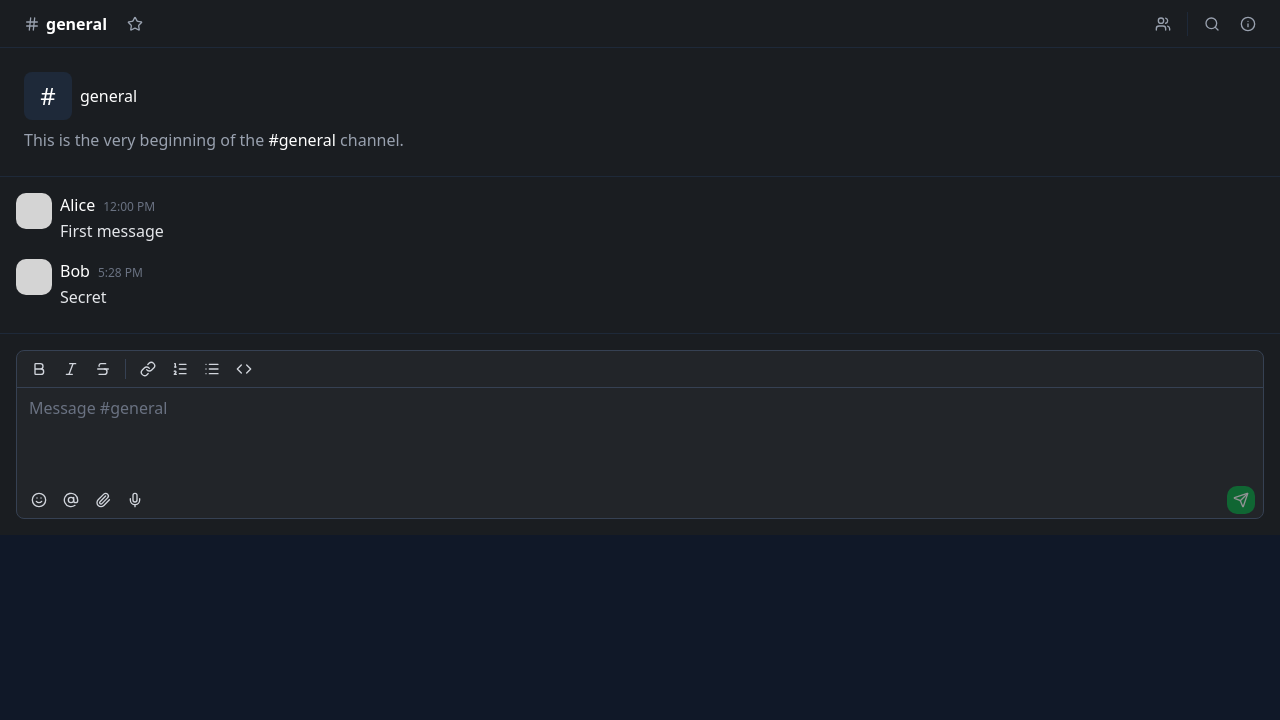
Test: ChatArea › filters messages when searching
This screenshot has width=1280, height=720.
Expected: the text "First message" is shown, [60,220,164,242]
Expected: the text "Secret" is shown, [60,286,107,308]
# Open search
Click the button titled "Search messages" at coordinates (1212, 24), box [1196,8,1228,40]
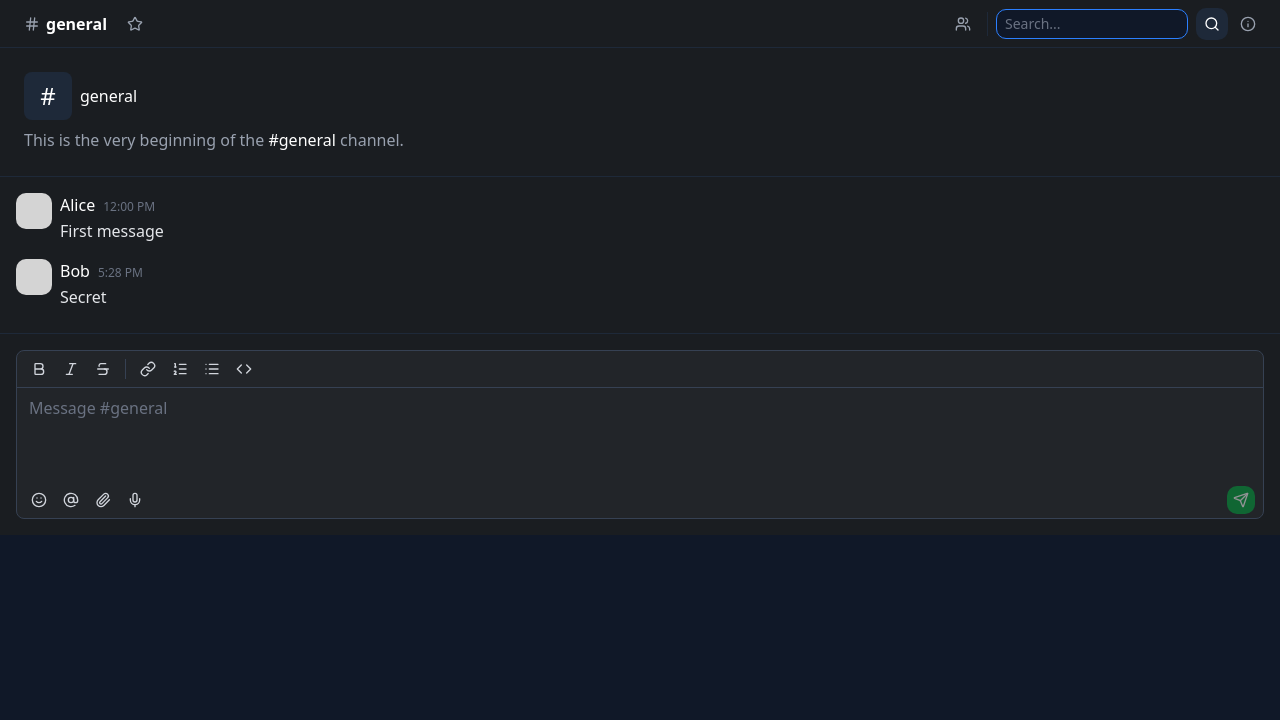
Type "Secret" into the field with placeholder "Search..." at coordinates (1092, 24), box [996,8,1188,38]
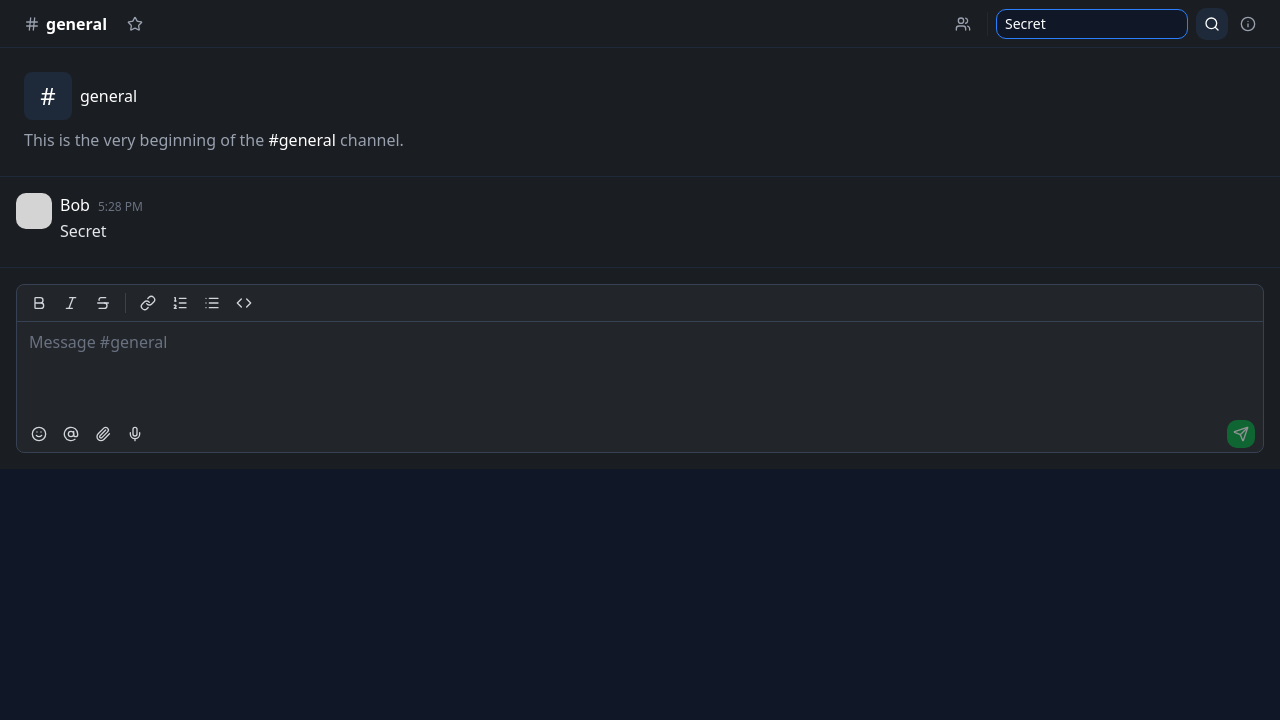
Expected: the text "Secret" is shown, [60,220,107,242]
Expected: the text "First message" is gone
